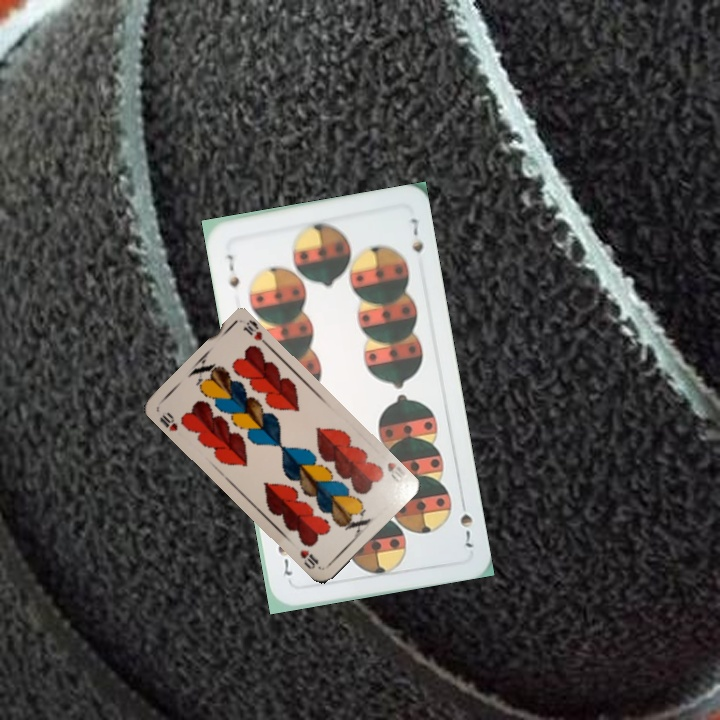H10: (383, 458, 410, 485), (155, 408, 180, 434)
S7: (456, 494, 475, 550), (222, 249, 242, 290)
